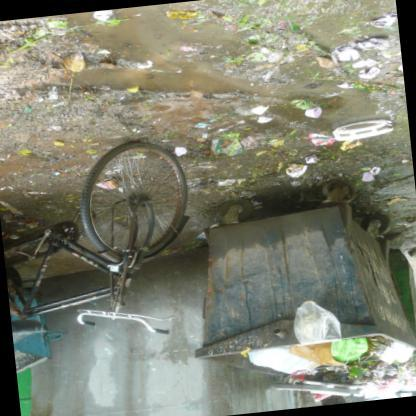Garbage: (243, 330, 415, 406), (269, 304, 345, 348), (319, 336, 367, 360), (388, 343, 415, 367), (257, 348, 258, 349)
